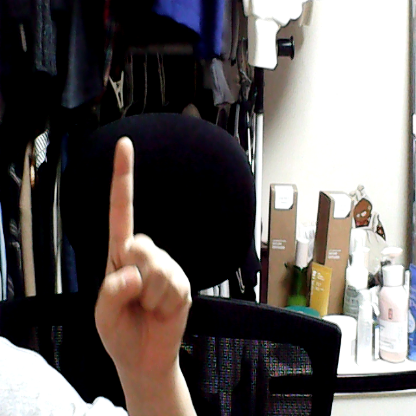Finger_1: (71, 119, 200, 379)
